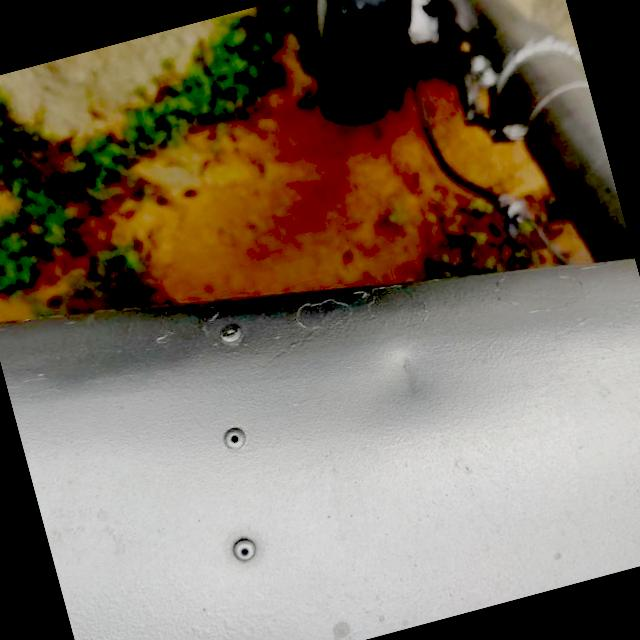dent: (339, 306, 474, 434)
